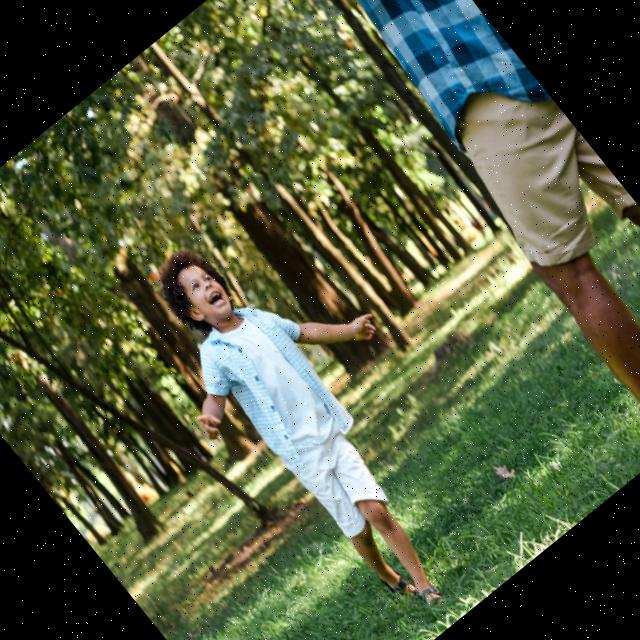Person: (103, 180, 545, 640), (255, 0, 640, 458)
